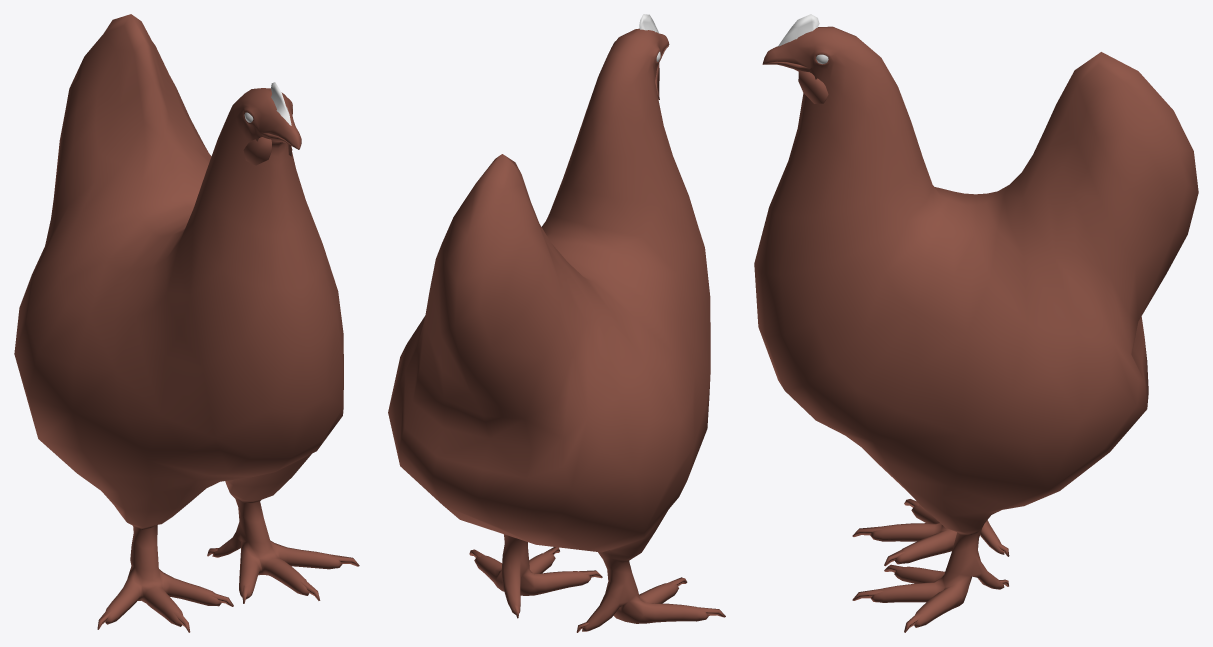
The model's file is chickenV2.fbx.
3 views of the same model, side by side, from view 1: azimuth 30°, elevation 25°; view 2: azimuth 150°, elevation 25°; view 3: azimuth 270°, elevation 25° (orthographic). The views are drawn at different scales.
Visible parts, largest first — view 1: Chicken; view 2: Chicken; view 3: Chicken.
Boxes of the visible parts, box(x1,y1,x2,y2) form: Chicken: box(14, 14, 359, 632); Chicken: box(388, 14, 725, 632); Chicken: box(754, 14, 1198, 632).
Size of the model in its own units: 658 by 1266 by 912.
